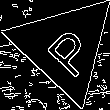P_NW: (33, 16, 95, 78)
